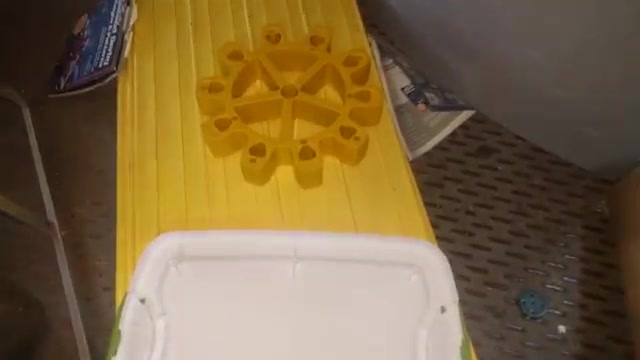gear: (184, 16, 394, 194)
